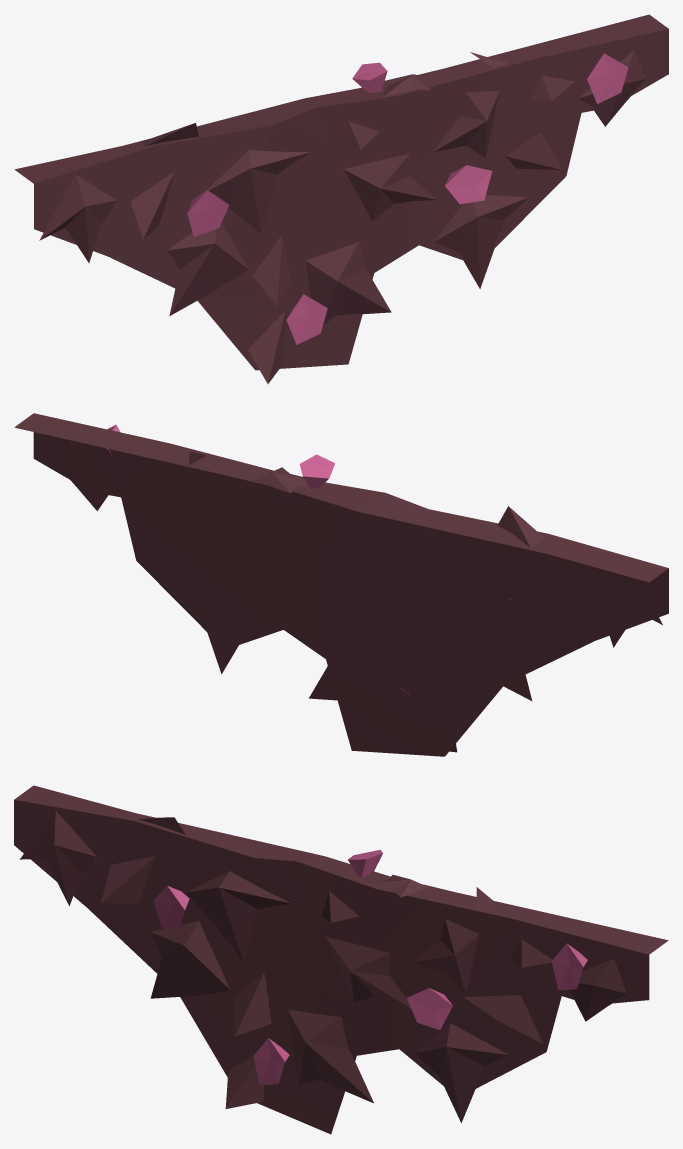
Rendered from empire-ivy-medium-blossom-empire.glb.
3 views of the same model, one above another, from view 1: azimuth 30°, elevation 25°; view 2: azimuth 150°, elevation 25°; view 3: azimuth 330°, elevation 25° (orthographic).
Visible parts, largest first — view 1: SM_Ivy_Medium_Blossom_Empire; view 2: SM_Ivy_Medium_Blossom_Empire; view 3: SM_Ivy_Medium_Blossom_Empire.
Part boxes in pixels (bbox=[...]): SM_Ivy_Medium_Blossom_Empire: bbox=[14, 14, 668, 383]; SM_Ivy_Medium_Blossom_Empire: bbox=[14, 413, 668, 756]; SM_Ivy_Medium_Blossom_Empire: bbox=[14, 785, 668, 1134].
Bounding box in the file's own units: 3 × 1.29 × 0.267.
